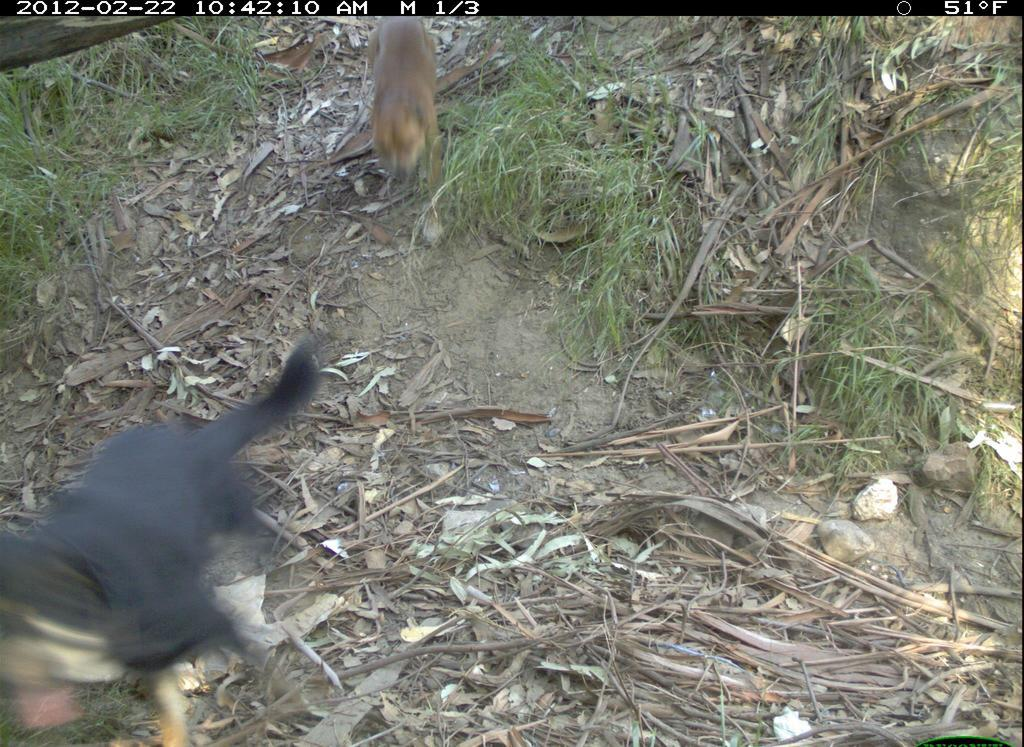dog: (3, 333, 341, 744), (356, 18, 447, 208)
